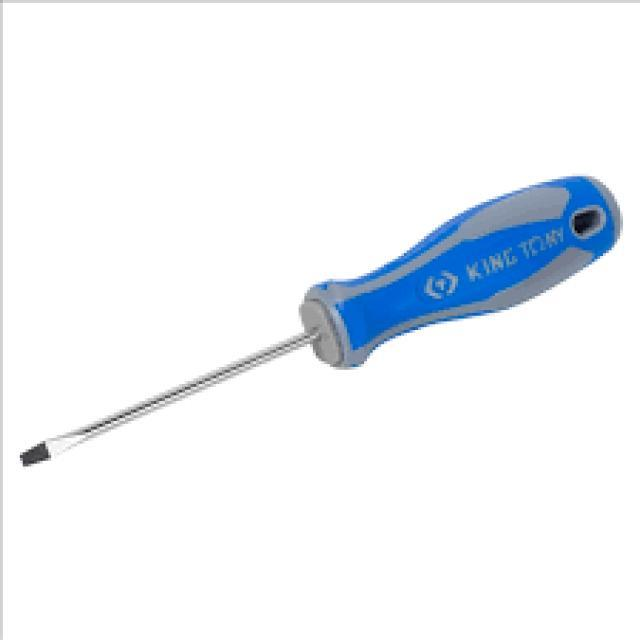screwdriver: (16, 172, 622, 468)
